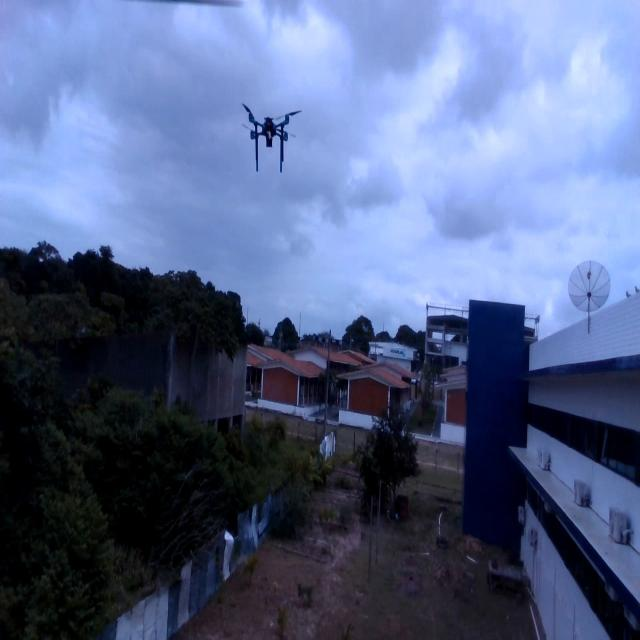-uav-: (238, 92, 304, 184)
